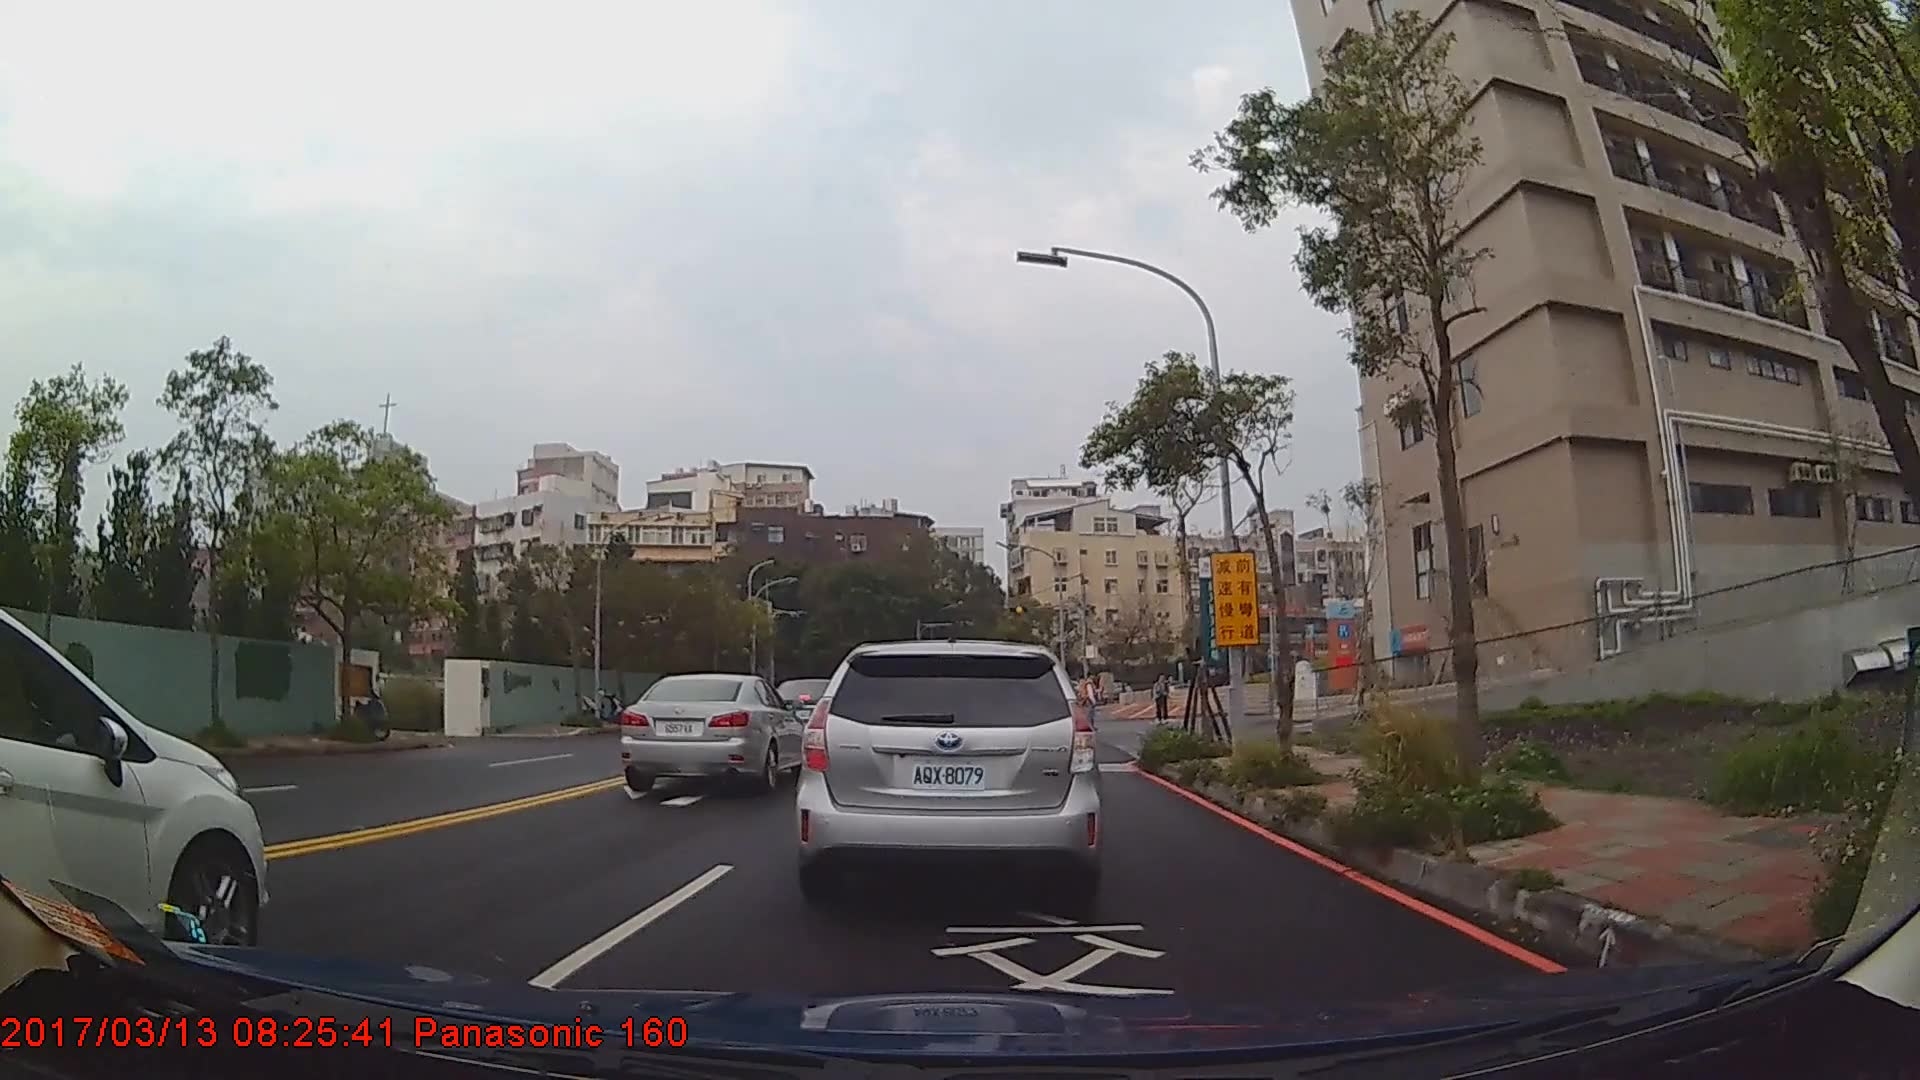pedestrian: (1082, 669, 1105, 737)
vehicle: (0, 607, 270, 964), (794, 635, 1108, 912), (620, 674, 809, 792)
